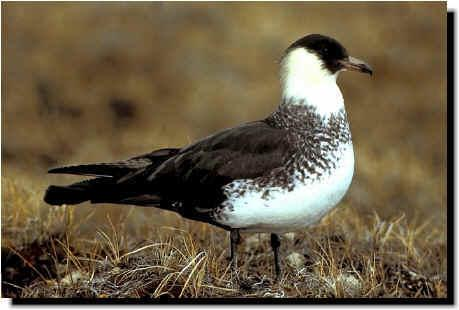bird: (42, 34, 376, 290)
